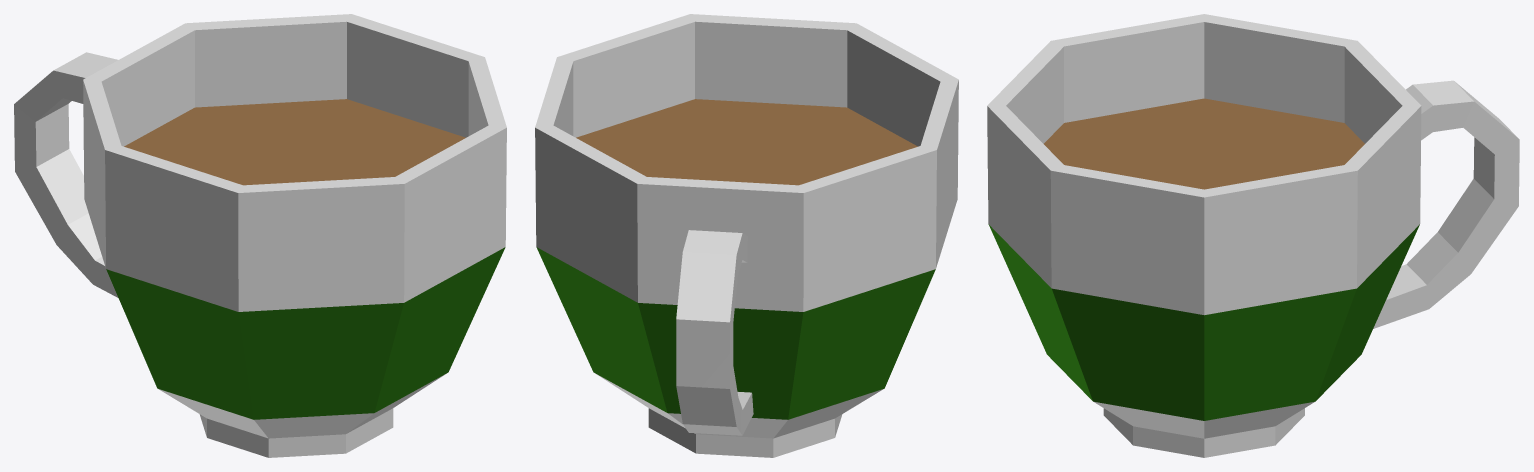
Rendered from C_Coffee_Cup_Medium_3.fbx.
The picture shows the model from 3 angles, left to right: view 1: azimuth 30°, elevation 25°; view 2: azimuth 150°, elevation 25°; view 3: azimuth 270°, elevation 25°; orthographic projection.
Parts seen in each view (by area): view 1: C_Coffee_Cup_Medium_3; view 2: C_Coffee_Cup_Medium_3; view 3: C_Coffee_Cup_Medium_3.
Part boxes in pixels (x1=…): C_Coffee_Cup_Medium_3: x1=14, y1=14, x2=506, y2=457; C_Coffee_Cup_Medium_3: x1=535, y1=14, x2=958, y2=457; C_Coffee_Cup_Medium_3: x1=987, y1=14, x2=1519, y2=457.
Size of the model in its own units: 84.28 by 103 by 66.31.
